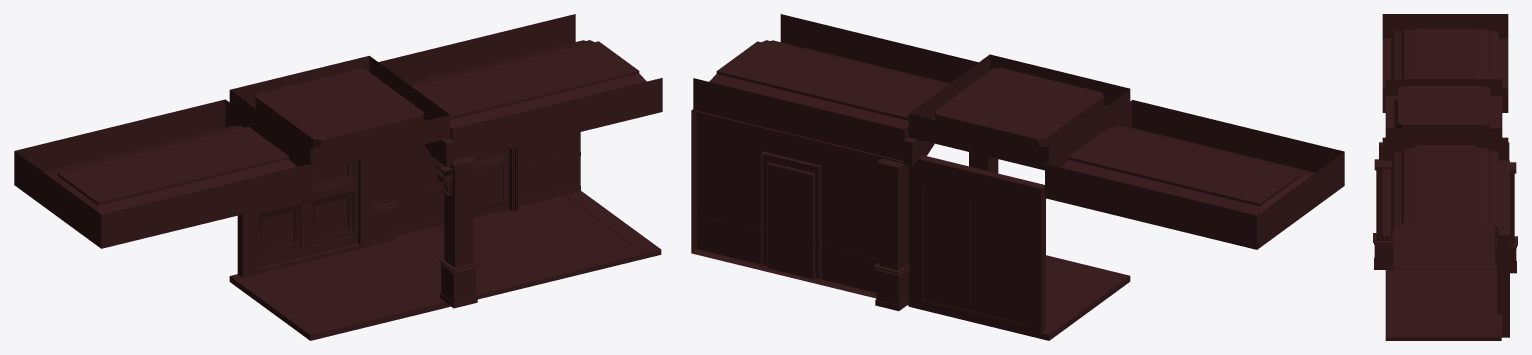
File: victorian_corridor_set.fbx
3 views of the same model, side by side, from view 1: azimuth 30°, elevation 25°; view 2: azimuth 150°, elevation 25°; view 3: azimuth 270°, elevation 25° (orthographic). The views are drawn at different scales.
Parts seen in each view (by area): view 1: roof_s, roof, roof_sq, floor, floor_sq, b_door, wall_M, hashira_corner, door, hashira, roof_bit; view 2: roof_s, roof, wall_M, b_door, roof_sq, door, floor_sq, hashira, roof_bit; view 3: roof, roof_s, floor, roof_sq, floor_sq, wall_M, hashira_corner, hashira, roof_bit, door.
Part boxes in pixels (<box>): roof_s: <box>14,99,312,248</box>; roof: <box>369,14,662,159</box>; roof_sq: <box>229,55,450,171</box>; floor: <box>374,191,661,299</box>; floor_sq: <box>229,245,450,340</box>; b_door: <box>237,157,374,277</box>; wall_M: <box>392,132,580,236</box>; hashira_corner: <box>435,156,479,308</box>; door: <box>473,147,518,217</box>; hashira: <box>374,152,398,244</box>; roof_bit: <box>424,138,454,166</box>; roof_s: <box>1045,100,1344,249</box>; roof: <box>693,14,989,163</box>; wall_M: <box>691,109,908,301</box>; b_door: <box>908,155,1045,335</box>; roof_sq: <box>908,54,1130,170</box>; door: <box>760,151,821,281</box>; floor_sq: <box>908,255,1130,340</box>; hashira: <box>873,158,910,310</box>; roof_bit: <box>904,137,934,166</box>; roof: <box>1382,137,1508,236</box>; roof_s: <box>1382,14,1508,112</box>; floor: <box>1385,263,1501,340</box>; roof_sq: <box>1385,79,1502,145</box>; floor_sq: <box>1393,219,1495,262</box>; wall_M: <box>1499,160,1509,337</box>; hashira_corner: <box>1373,159,1394,269</box>; hashira: <box>1496,162,1517,273</box>; roof_bit: <box>1379,142,1509,160</box>; door: <box>1497,227,1502,314</box>.
Size of the model in its own units: 944 by 308 by 292.
